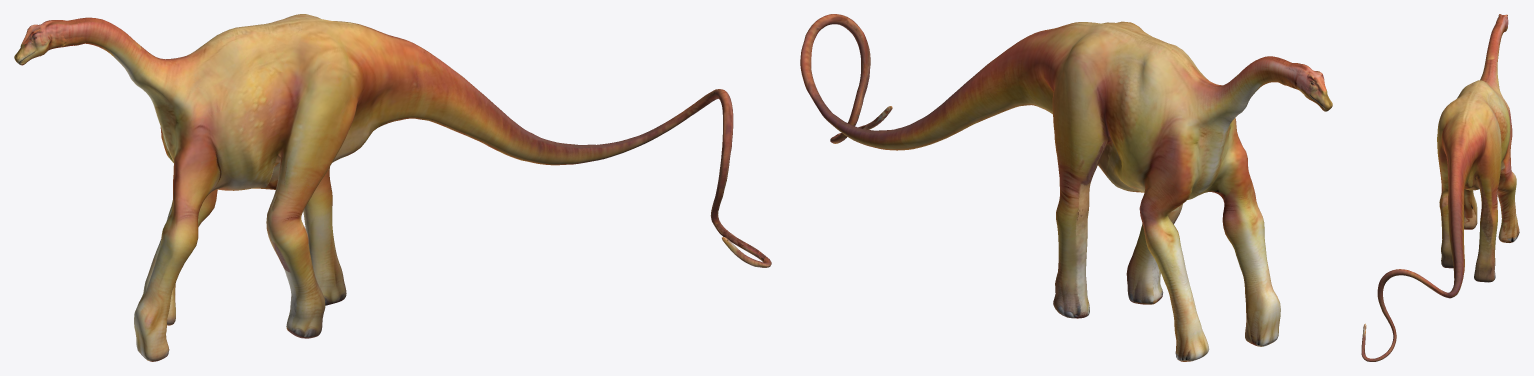
3 renders of one model, left to right at view 1: azimuth 30°, elevation 25°; view 2: azimuth 150°, elevation 25°; view 3: azimuth 270°, elevation 25°, orthographic. The views are drawn at different scales.
Parts seen in each view (by area): view 1: Mesh_0; view 2: Mesh_0; view 3: Mesh_0.
Part boxes in pixels (x1=…): Mesh_0: x1=14, y1=14, x2=771, y2=361; Mesh_0: x1=800, y1=14, x2=1332, y2=361; Mesh_0: x1=1361, y1=14, x2=1519, y2=361.
Size of the model in its own units: 1.72 by 0.8647 by 0.6394.
1 material, 1 textured.
